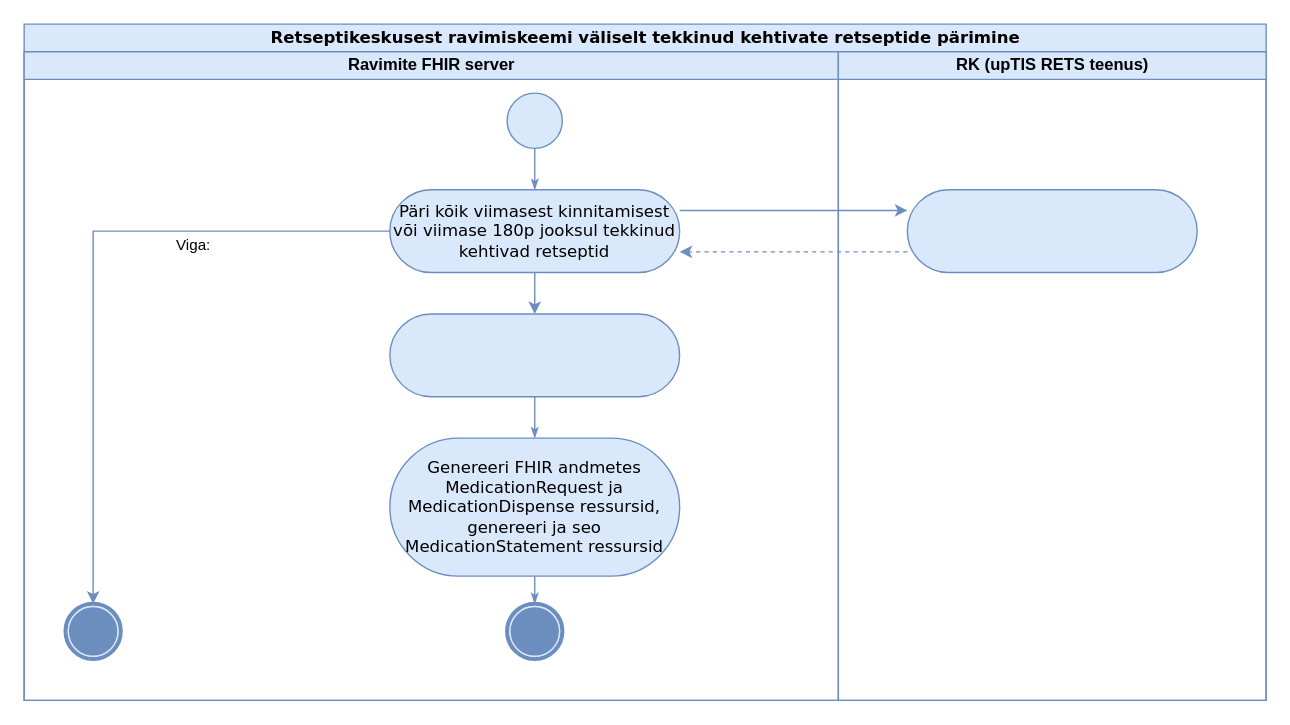
Image size: 1290x725. Some labels were removed from this diagram. Here are the shapes that lost their labels. From the top down, the centre of each, then its label:
the point at 1051,230: rets.retseptide_info_var
the point at 534,355: Välista juba FHIR andmetes seotud retseptid ID-de alusel
